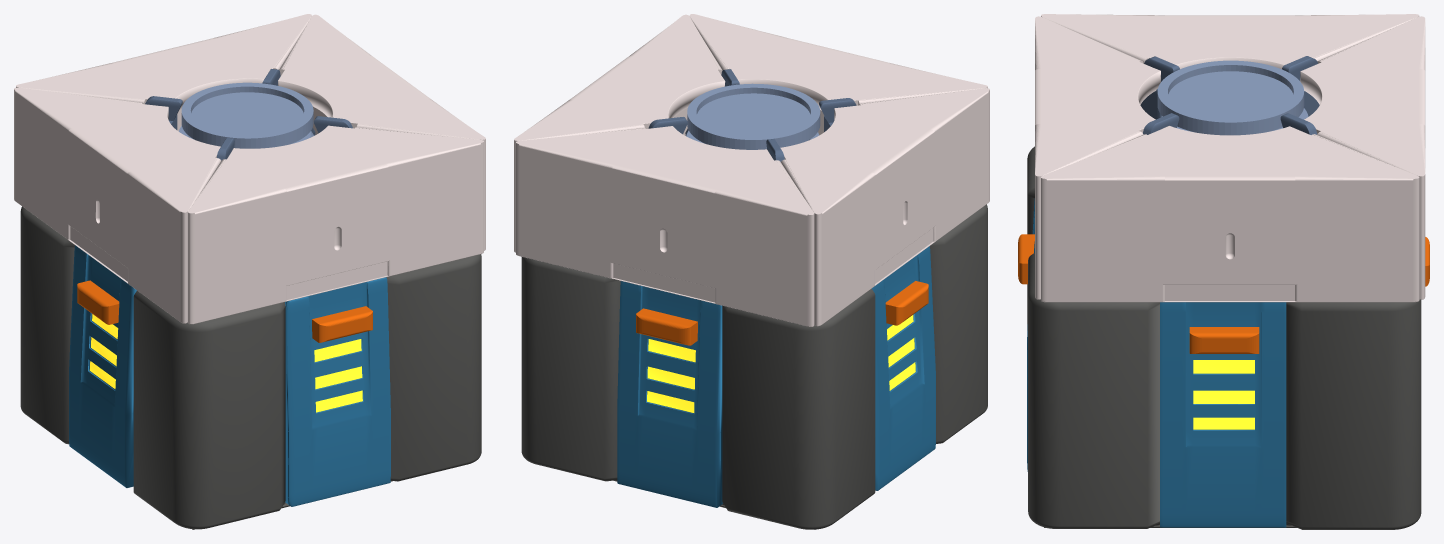
3 renders of one model, left to right at view 1: azimuth 30°, elevation 25°; view 2: azimuth 150°, elevation 25°; view 3: azimuth 270°, elevation 25°, orthographic. The views are drawn at different scales.
Visible parts, largest first — view 1: Lootbox_bottom, Cap3, Cap4, Lootbox_panel, Lootbox_panel.001, Cap1, Cap2, Coin, Lever1, Lever4; view 2: Lootbox_bottom, Cap2, Cap4, Lootbox_panel.003, Cap1, Cap3, Lootbox_panel.001, Coin, Lever3, Lever4; view 3: Lootbox_bottom, Cap1, Lootbox_panel.002, Cap2, Cap3, Cap4, Coin, Lever2, Cube.009, Cube.012, Lever1.
Part boxes in pixels (x1,y1,x2,y2): Lootbox_bottom: (20, 206, 481, 529); Cap3: (188, 125, 483, 324); Cap4: (14, 87, 221, 323); Lootbox_panel: (285, 277, 390, 506); Lootbox_panel.001: (69, 245, 136, 487); Cap1: (278, 14, 485, 250); Cap2: (16, 14, 311, 131); Coin: (181, 82, 313, 148); Lever1: (312, 306, 372, 342); Lever4: (77, 280, 119, 324); Lootbox_bottom: (521, 204, 987, 529); Cap2: (516, 126, 814, 326); Cap4: (780, 88, 989, 326); Lootbox_panel.003: (617, 281, 722, 507); Cap1: (514, 14, 725, 252); Cap3: (689, 14, 987, 135); Lootbox_panel.001: (872, 246, 935, 490); Coin: (687, 83, 820, 149); Lever3: (636, 308, 697, 345); Lever4: (885, 281, 928, 325); Lootbox_bottom: (1027, 146, 1421, 529); Cap1: (1041, 125, 1419, 302); Lootbox_panel.002: (1160, 302, 1286, 527); Cap2: (1300, 16, 1425, 299); Cap3: (1035, 16, 1160, 299); Cap4: (1041, 14, 1419, 69); Coin: (1157, 60, 1304, 135); Lever2: (1189, 327, 1259, 353); Cube.009: (1140, 56, 1179, 119); Cube.012: (1282, 56, 1319, 116); Lever1: (1018, 234, 1034, 284).
Size of what is drawn, in the model's own units: 2.28 by 2.22 by 2.29.
